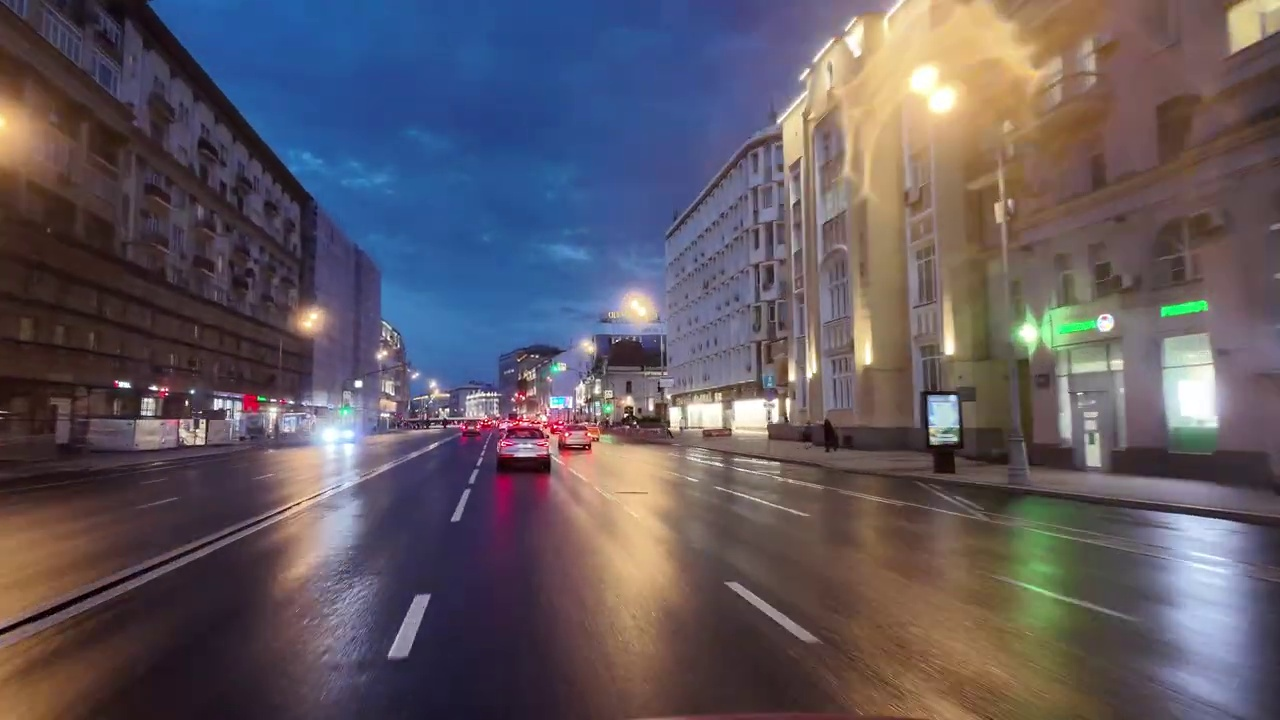acesa: (901, 57, 968, 118), (623, 292, 654, 323), (293, 306, 326, 335), (1, 106, 14, 155), (579, 337, 597, 357)
